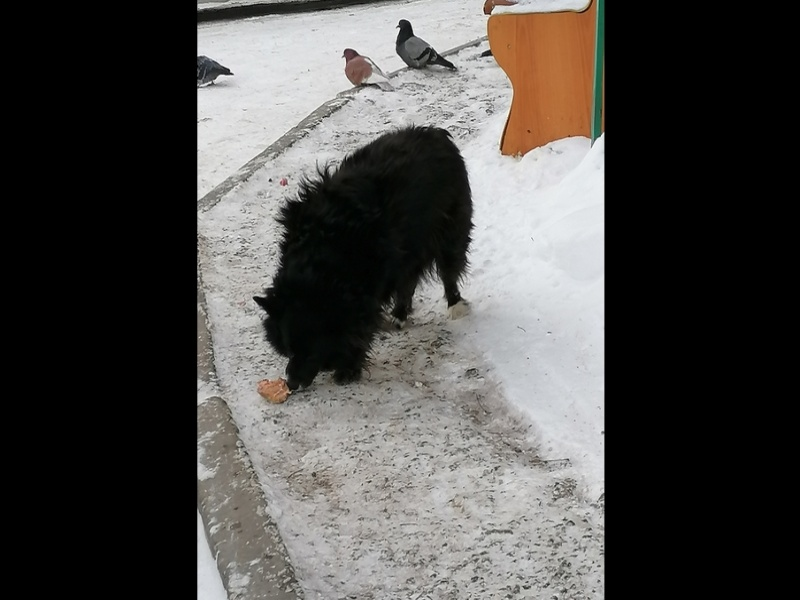dog: (252, 126, 481, 412)
